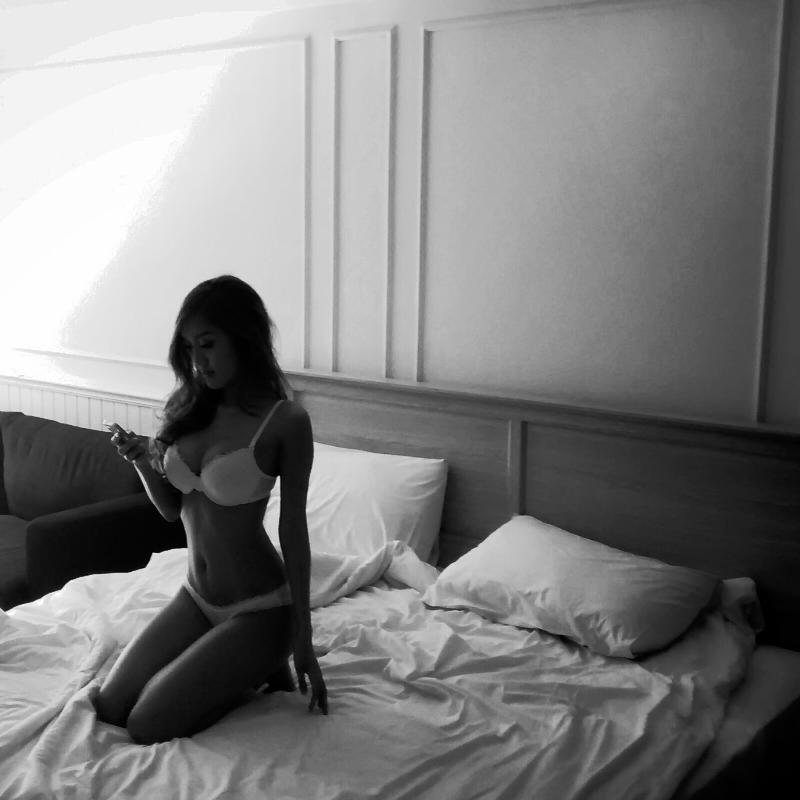pillow: (386, 519, 736, 689), (260, 443, 442, 575)
